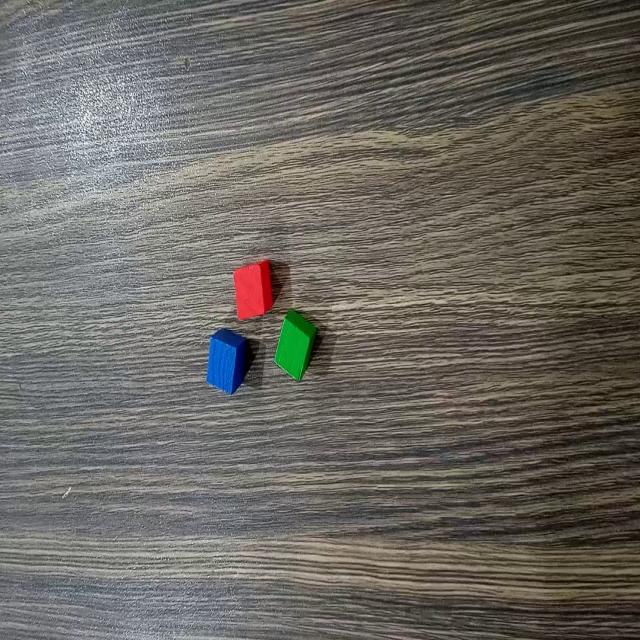cube: (274, 302, 322, 384), (229, 255, 275, 323), (205, 324, 246, 398)
